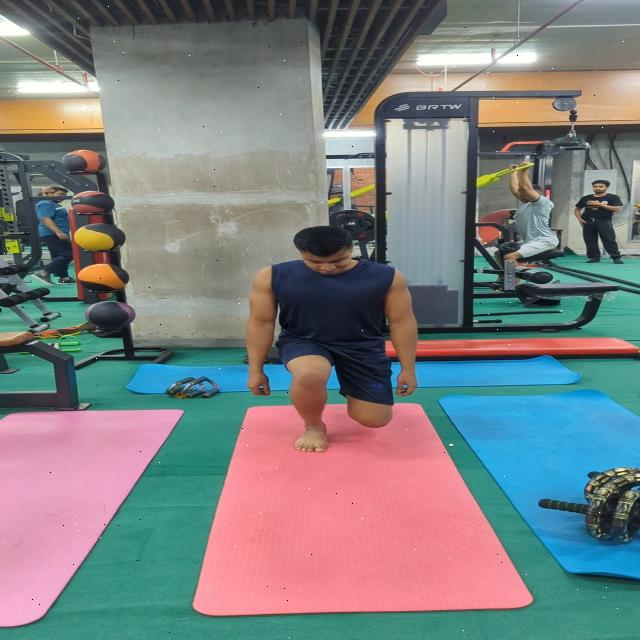Normal_Lunges: (246, 224, 419, 454)
